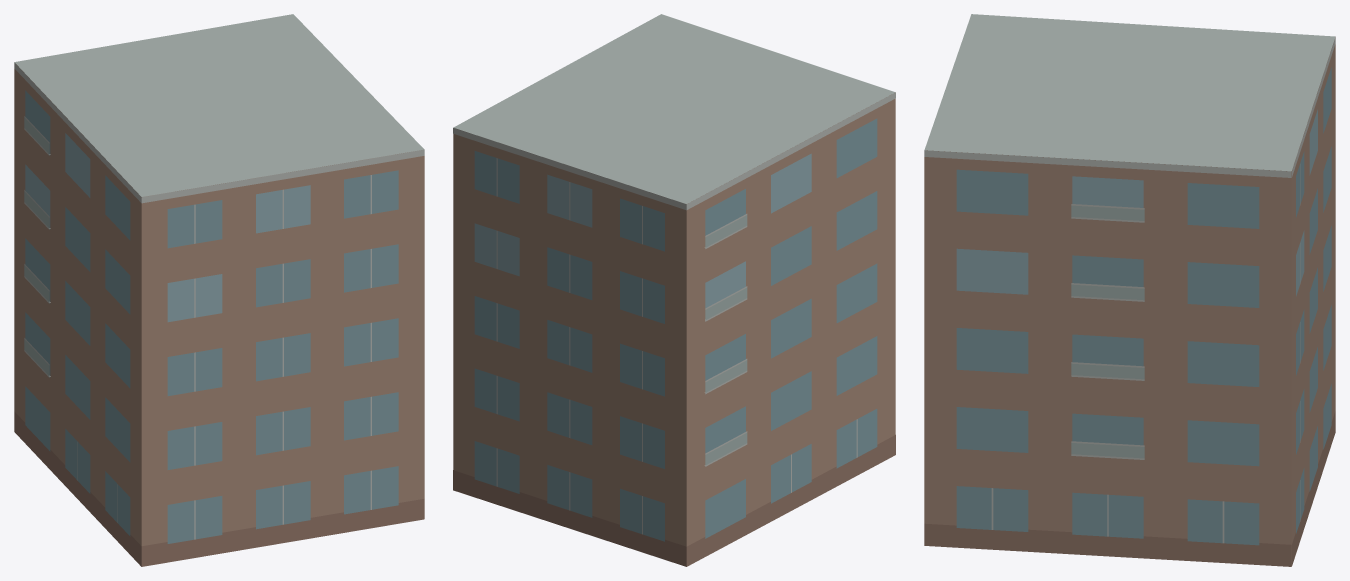
Rendered from survey-upis-32894262.glb.
3 renders of one model, left to right at view 1: azimuth 30°, elevation 25°; view 2: azimuth 150°, elevation 25°; view 3: azimuth 270°, elevation 25°, orthographic. The views are drawn at different scales.
Parts seen in each view (by area): view 1: survey-upis-32894262.tmp; view 2: survey-upis-32894262.tmp; view 3: survey-upis-32894262.tmp.
Part boxes in pixels (box(x1,y1,x2,y2)): survey-upis-32894262.tmp: box(14, 14, 424, 566); survey-upis-32894262.tmp: box(453, 14, 895, 566); survey-upis-32894262.tmp: box(924, 14, 1335, 566).
Bounding box in the file's own units: 12.38 × 14.5 × 13.67.
